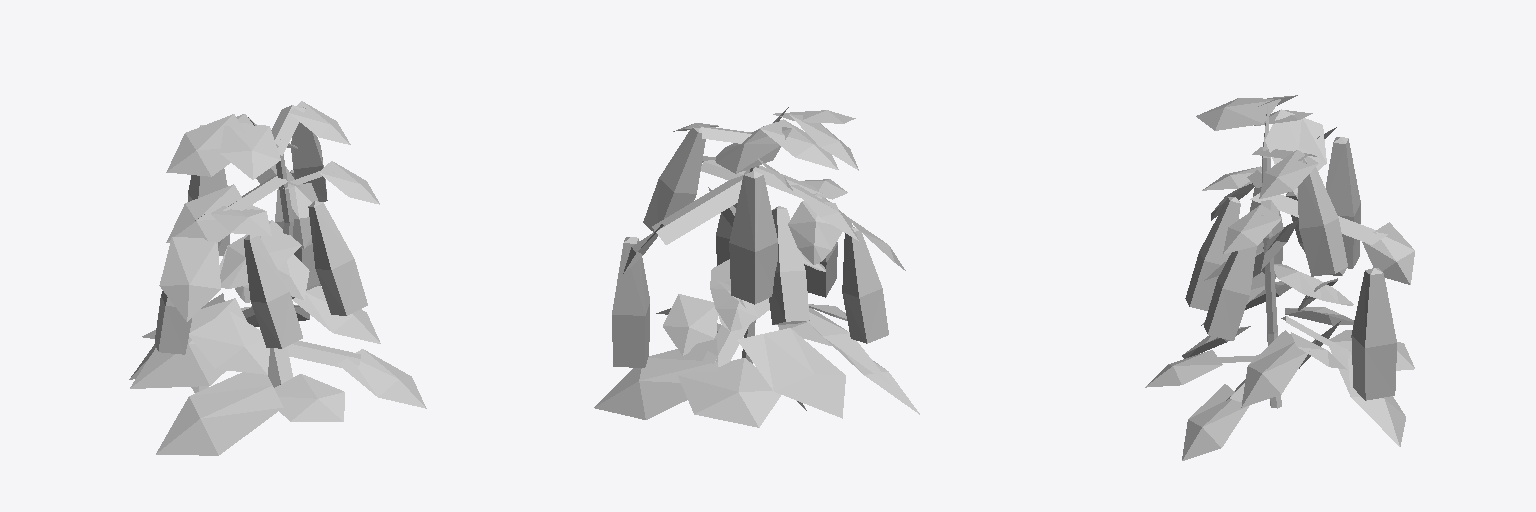
Rendered from Aubergine.obj.
3 renders of one model, left to right at view 1: azimuth 30°, elevation 25°; view 2: azimuth 150°, elevation 25°; view 3: azimuth 270°, elevation 25°, orthographic.
Parts seen in each view (by area): view 1: Default_Layer; view 2: Default_Layer; view 3: Default_Layer.
Part boxes in pixels (bbox=[...]): Default_Layer: bbox=[129, 101, 426, 455]; Default_Layer: bbox=[594, 107, 919, 427]; Default_Layer: bbox=[1145, 95, 1414, 460].
Bounding box in the file's own units: 2133 × 2380 × 1973.